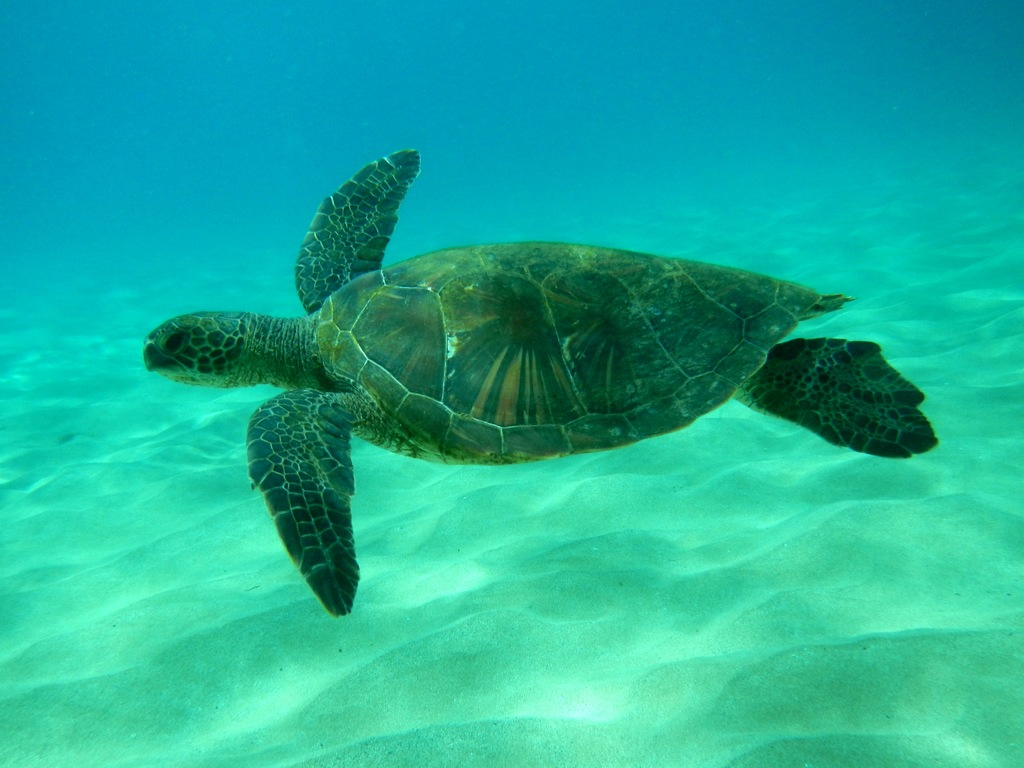Sea turtles: (144, 145, 938, 625)
